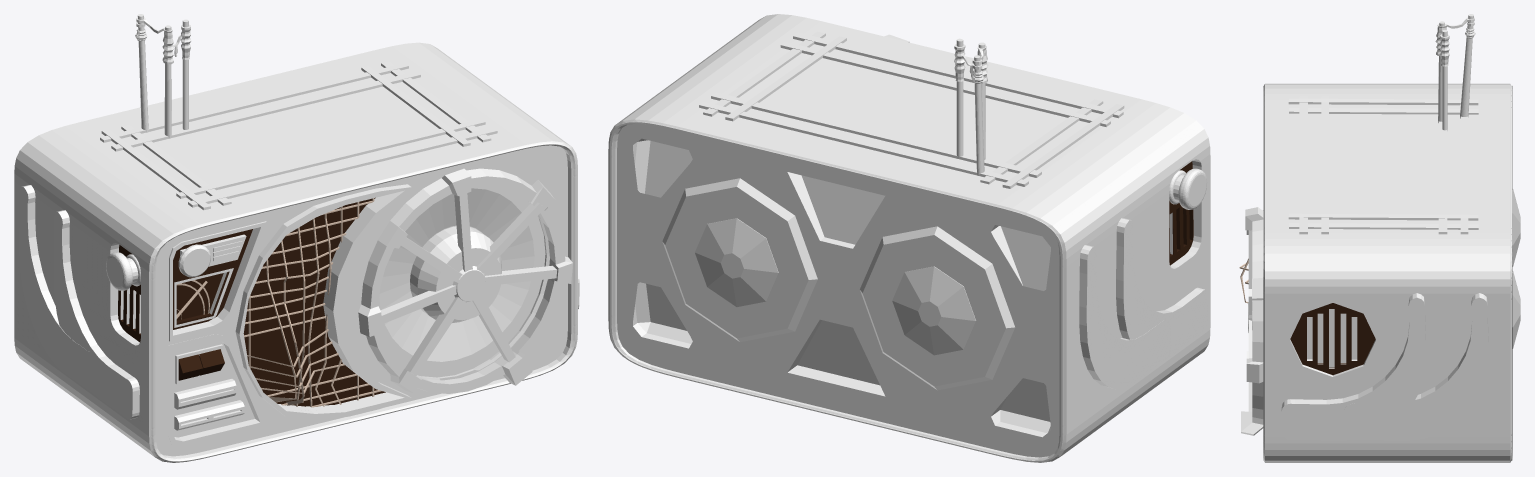
File: 11_alien_radio_2.gltf
3 renders of one model, left to right at view 1: azimuth 30°, elevation 25°; view 2: azimuth 150°, elevation 25°; view 3: azimuth 270°, elevation 25°, orthographic. The views are drawn at different scales.
Visible parts, largest first — view 1: radio base, outer, moon, leftsidedown, moon.001, grid, radio_center, bottomleft.002, upperleft.001, doohickey, Cube.015, Cube.009 (+16 smaller); view 2: radio base, Cylinder.006, leftsidedown, Cube.009, Cube.015, Cube.008, Cube.014, Cylinder, side_panel, Cube.010, Cube.012, Cube.013 (+2 smaller); view 3: radio base, leftsidedown, outer, sidepanel2, Cube.015, Cube.012, Cube.010, Cube.014, Cube.009, Cube.008, Cube.013, Cube.011 (+6 smaller).
Boxes of the visible parts, x1,y1,x2,y2 form: radio base: (14,14,577,462); outer: (358,168,572,393); moon: (243,197,385,406); leftsidedown: (19,185,579,419); moon.001: (235,184,411,420); grid: (244,198,381,407); radio_center: (410,226,501,322); bottomleft.002: (172,341,254,437); upperleft.001: (169,221,266,341); doohickey: (174,379,244,430); Cube.015: (188,127,497,207); Cube.009: (111,71,420,151); radio base: (608,14,1210,462); Cylinder.006: (662,178,1015,390); leftsidedown: (1079,218,1208,389); Cube.009: (711,92,1041,177); Cube.015: (793,32,1123,118); Cube.008: (699,101,1028,186); Cube.014: (780,42,1110,126); Cylinder: (1169,168,1207,209); side_panel: (1169,161,1193,265); Cube.010: (1002,104,1124,188); Cube.012: (725,36,846,121); Cube.013: (703,31,825,116); radio base: (1263,14,1512,462); leftsidedown: (1281,293,1488,440); outer: (1241,207,1263,435); sidepanel2: (1290,303,1375,375); Cube.015: (1299,96,1307,234); Cube.012: (1288,213,1478,220); Cube.010: (1288,98,1478,105); Cube.014: (1321,96,1328,234); Cube.009: (1438,121,1447,234); Cube.008: (1460,96,1468,234); Cube.013: (1289,223,1478,229); Cube.011: (1289,108,1478,114).
Size of the model in its own units: 4.01 by 3.01 by 2.38.
